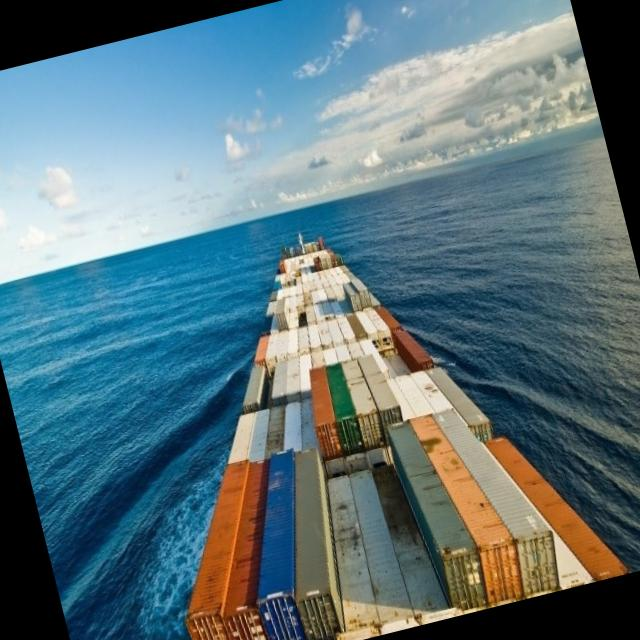boat: (57, 126, 640, 640)
